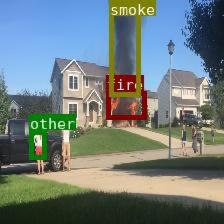fire: (106, 90, 145, 119)
smoke: (108, 0, 139, 95)
